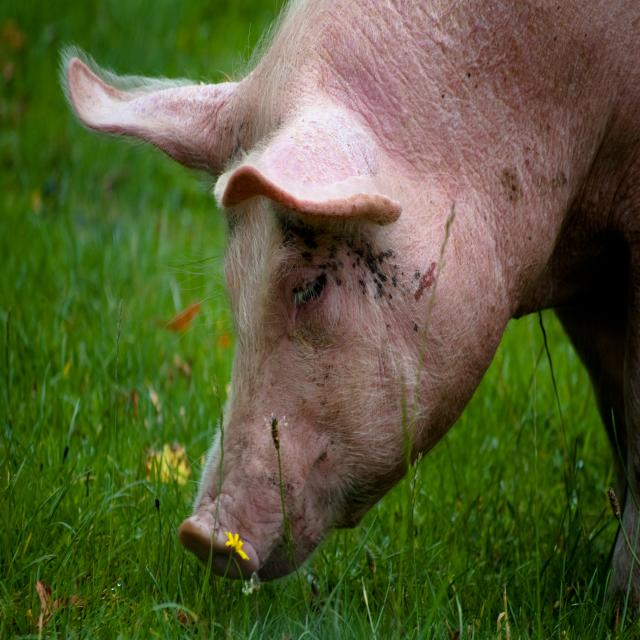pig: (60, 0, 640, 607)
